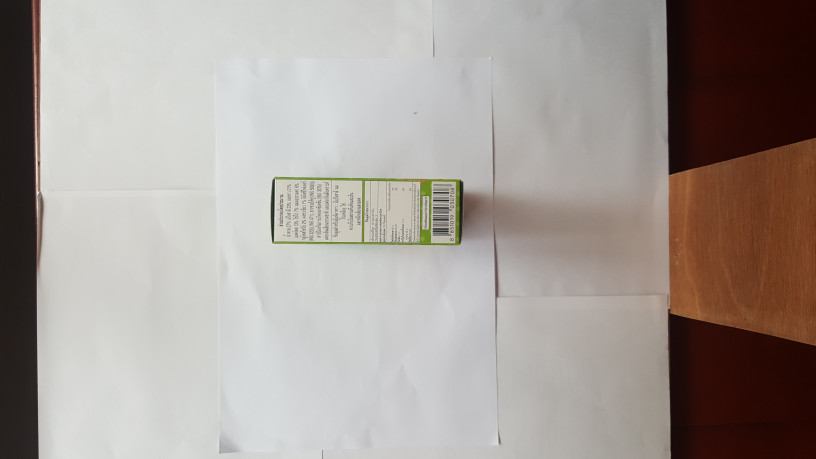collon-matcha: (269, 175, 464, 249)
